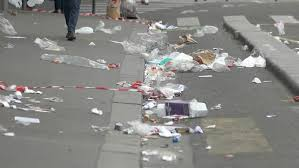garbage: (118, 80, 213, 136), (137, 26, 206, 79), (1, 82, 60, 123), (149, 49, 267, 69)
